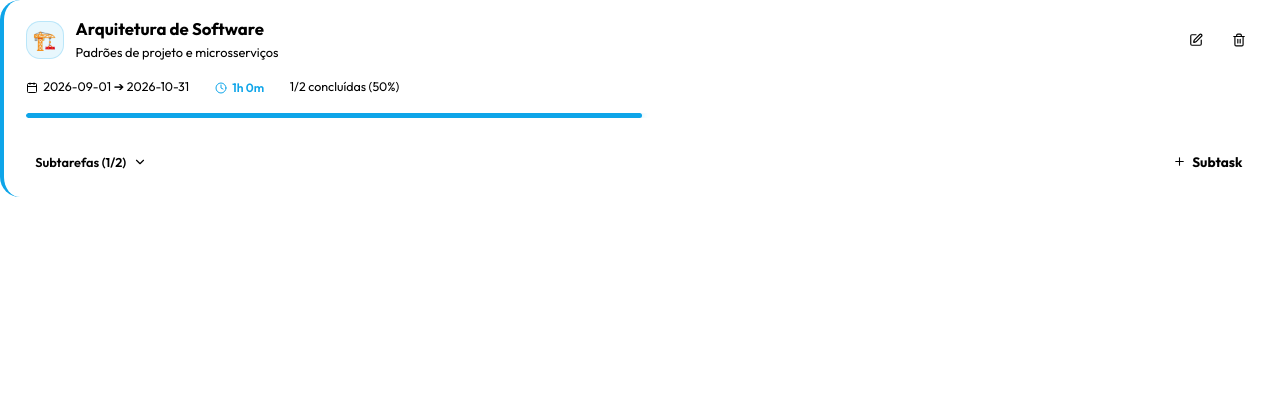
Test: Ações de Projetos (CRUD, Confirmação Customizada e Detalhes) › deve alternar a expansão das subtarefas no ProjectCard
This screenshot has width=1262, height=403.
Check: the text "Diagramar C4 Model" is not shown
Clica no botão de expandir subtarefas
Click the button "Subtarefas (1/2)" at (91, 162), box [26, 149, 156, 174]
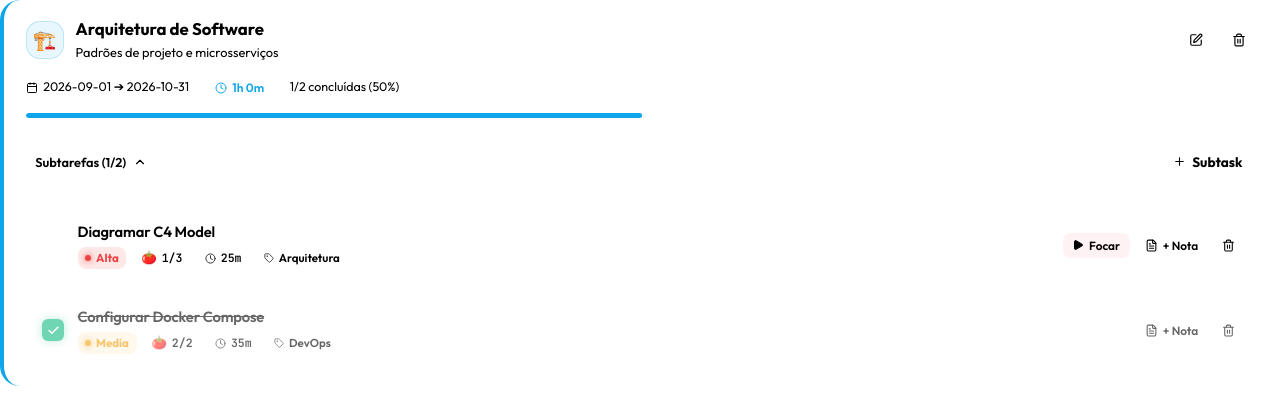
Check: the text "Diagramar C4 Model" is shown, box [77, 222, 215, 242]
Check: the text "Configurar Docker Compose" is shown, box [77, 306, 264, 326]
